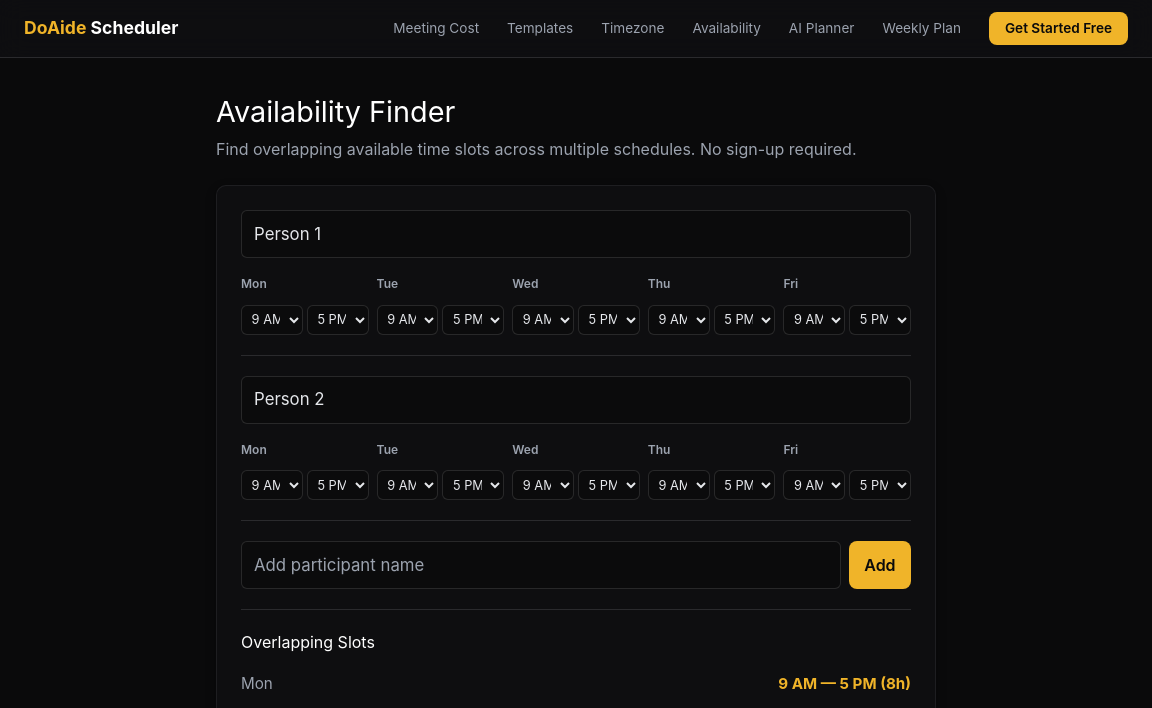
Test: AvailabilityFinderPage › adds a participant when clicking Add
Type "Alice" into the field with placeholder "Add participant name".
click(541, 566); type("Alice")  # box [241, 542, 841, 590]
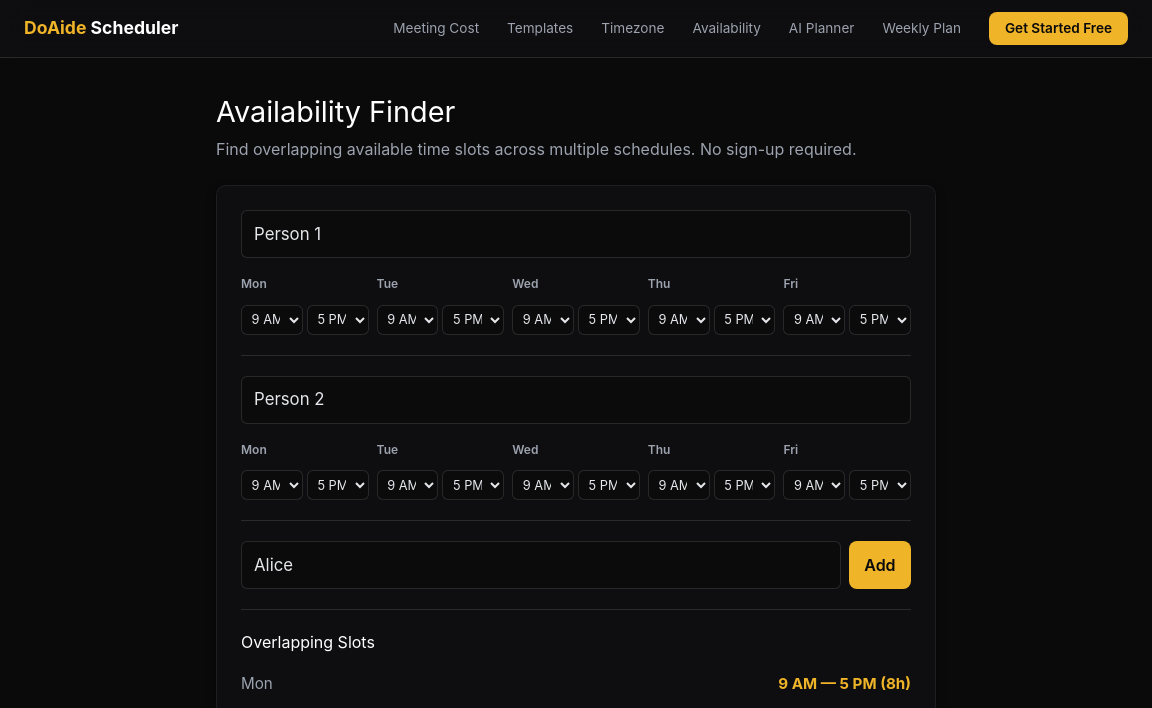
Click the button "Add".
click(880, 566)  # box [849, 542, 911, 590]
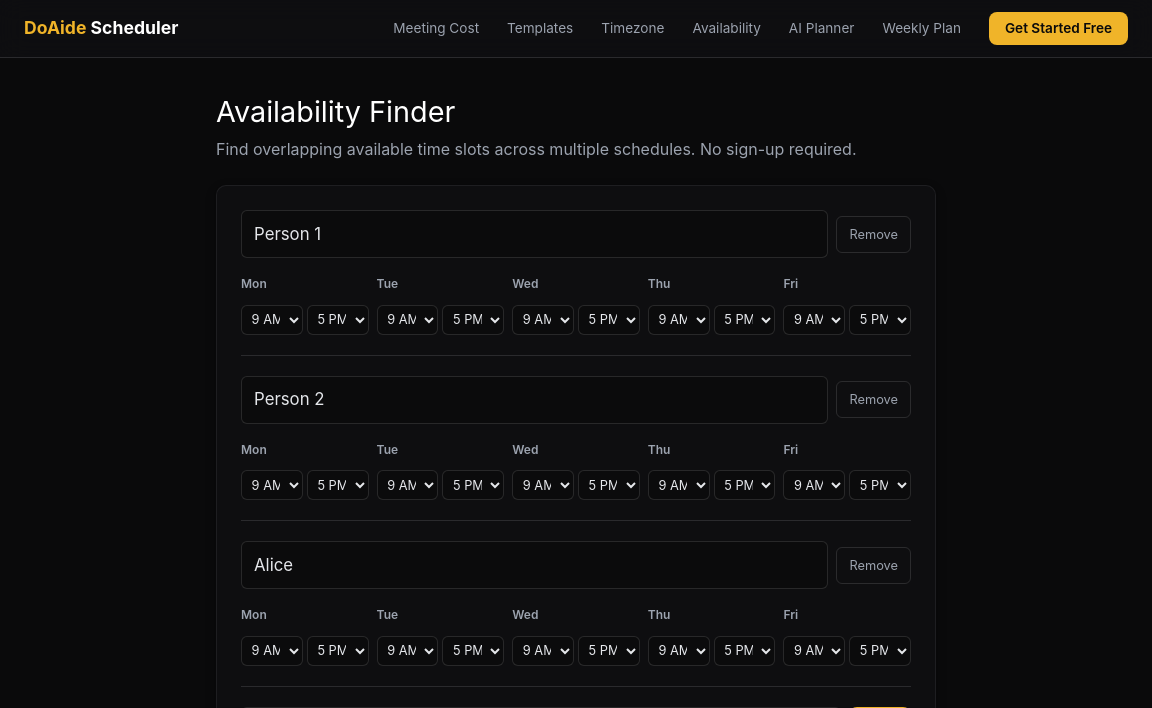
Now the field showing "Alice" is shown, box [241, 542, 828, 590]
